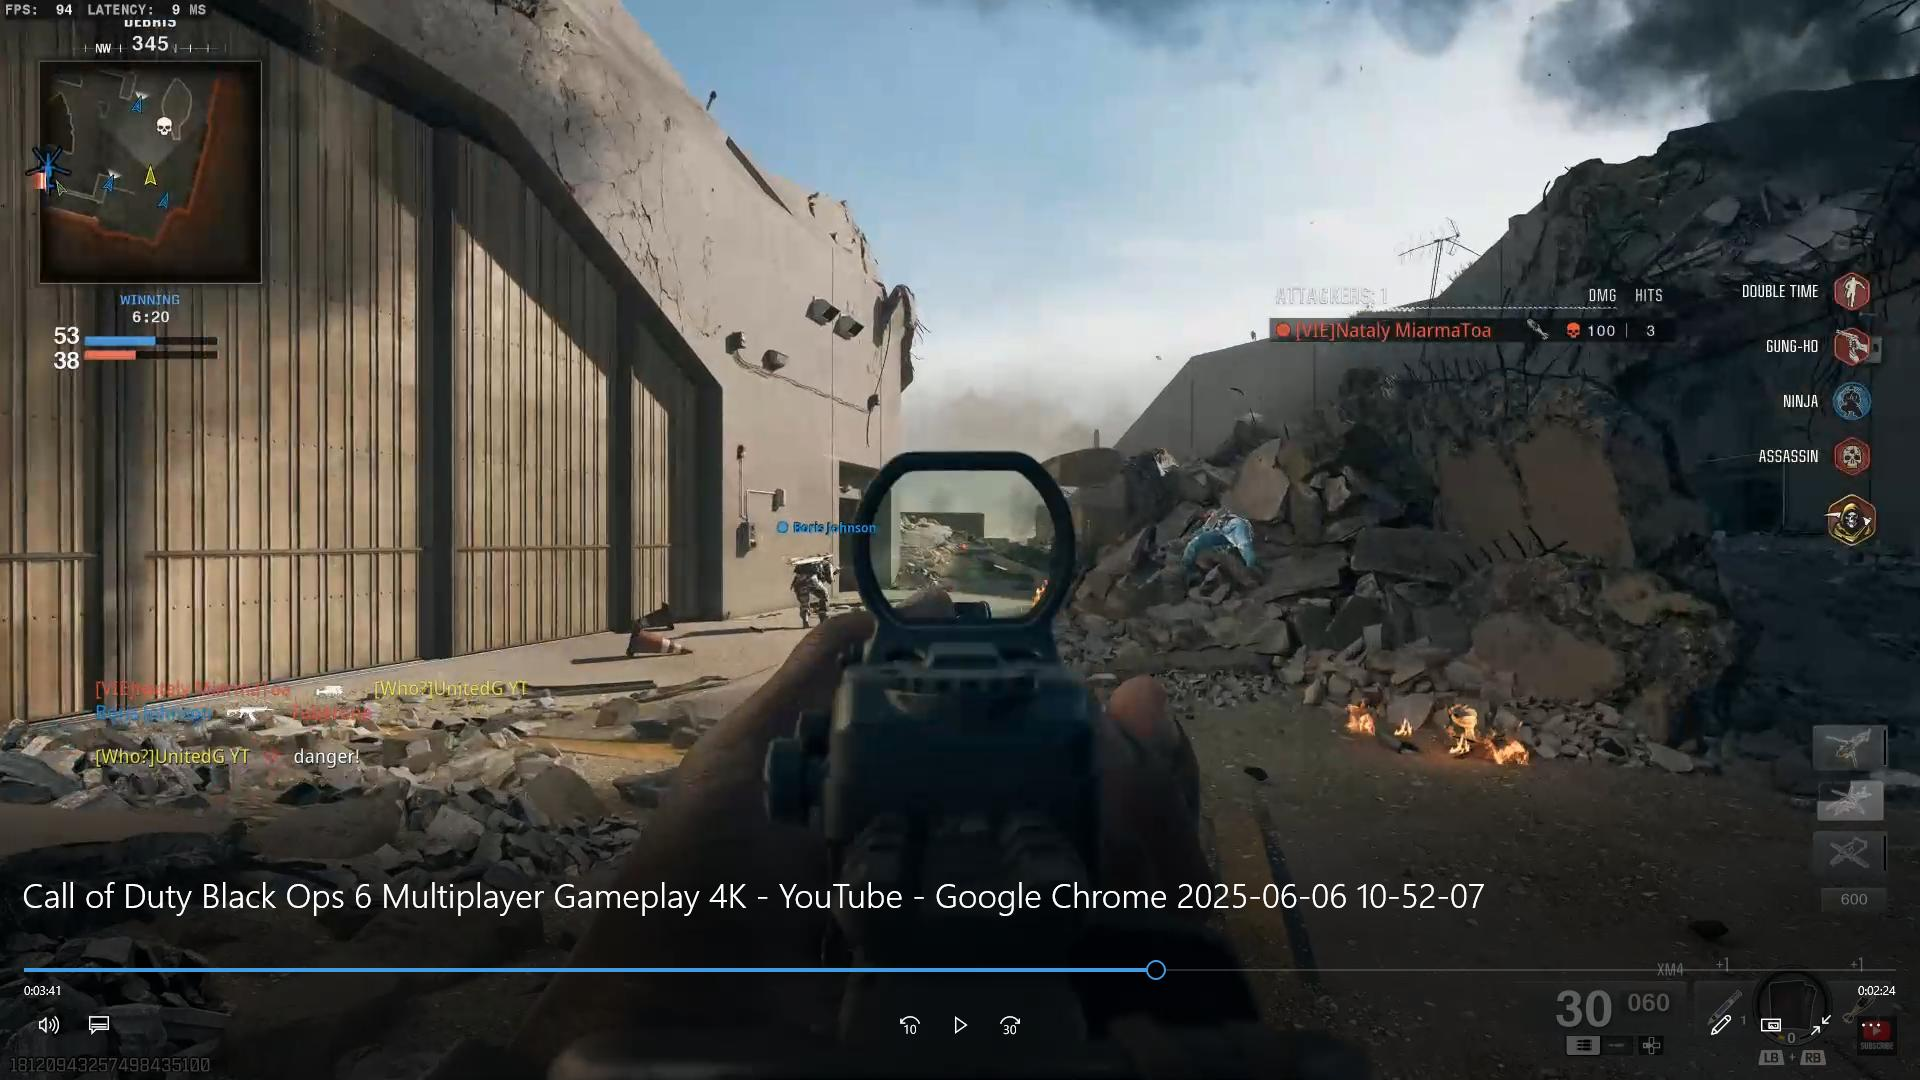Enemy: (773, 538, 851, 622)
